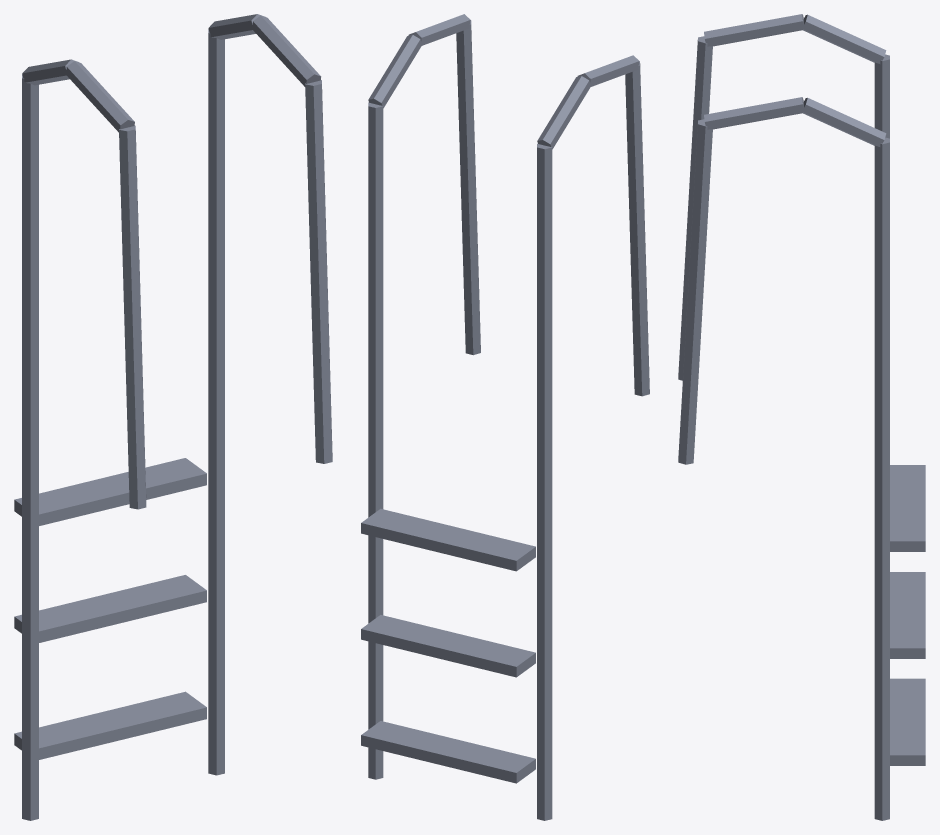
Rendered from Pool_Ladder.fbx.
3 views of the same model, side by side, from view 1: azimuth 30°, elevation 25°; view 2: azimuth 150°, elevation 25°; view 3: azimuth 270°, elevation 25° (orthographic). The views are drawn at different scales.
Parts seen in each view (by area): view 1: Pool_Ladder; view 2: Pool_Ladder; view 3: Pool_Ladder.
Boxes of the visible parts, x1,y1,x2,y2 form: Pool_Ladder: (14, 14, 332, 820); Pool_Ladder: (361, 14, 649, 820); Pool_Ladder: (678, 14, 925, 820).
Size of the model in its own units: 0.545 by 2.02 by 0.6295.
